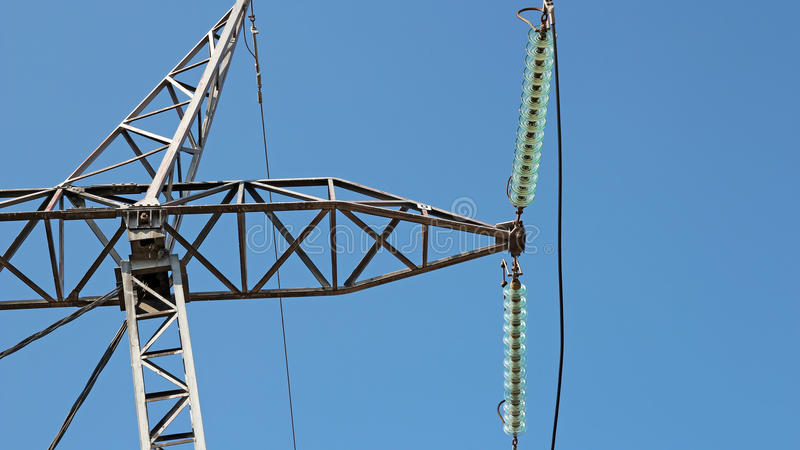isolator: (508, 26, 557, 203), (500, 282, 530, 437)
